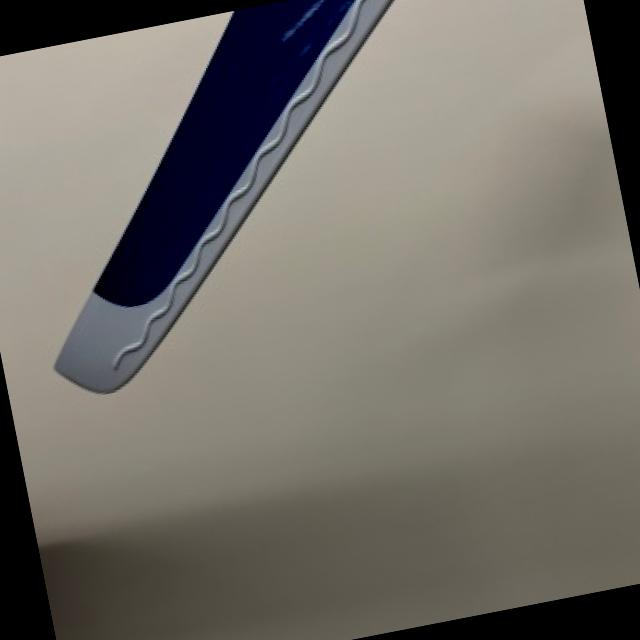healthy: (58, 0, 390, 388)
